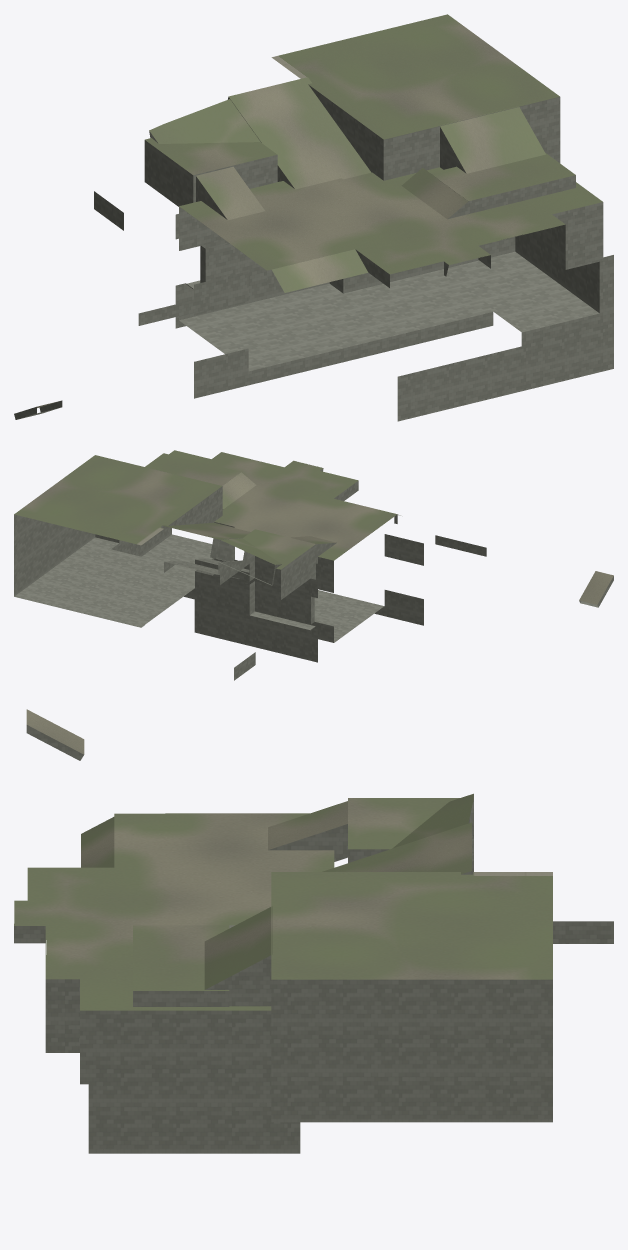
The model's file is SM_QD_Revision_MountainMiddle.fbx.
The picture shows the model from 3 angles, top to bottom: view 1: azimuth 30°, elevation 25°; view 2: azimuth 150°, elevation 25°; view 3: azimuth 270°, elevation 25°; orthographic projection. The views are drawn at different scales.
Visible parts, largest first — view 1: SM_QD_Revision_MountainMiddle; view 2: SM_QD_Revision_MountainMiddle; view 3: SM_QD_Revision_MountainMiddle.
Part boxes in pixels (x1,y1,x2,y2): SM_QD_Revision_MountainMiddle: (14,14,613,421); SM_QD_Revision_MountainMiddle: (14,450,613,680); SM_QD_Revision_MountainMiddle: (14,709,613,1153).
Size of the model in its own units: 77.44 by 51.78 by 25.85.
